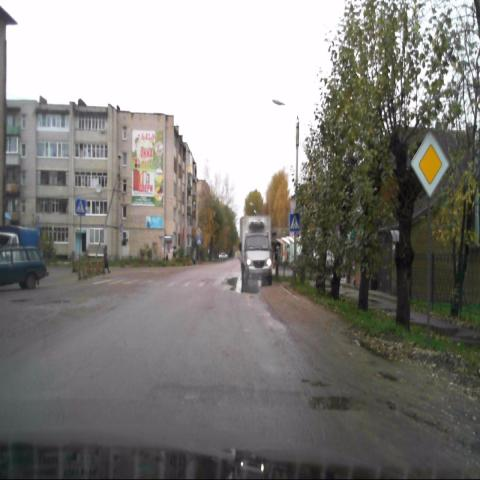2_1: (409, 128, 449, 198)
5_19_1: (289, 213, 301, 232), (75, 197, 86, 216)
